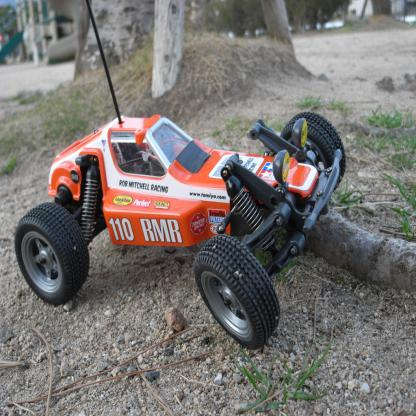Car: (14, 0, 346, 350)
